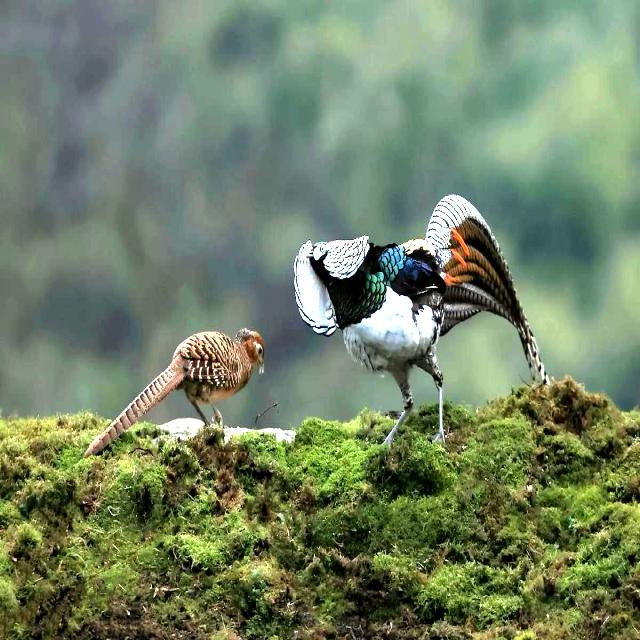Chrysolophus amherstiae: (426, 195, 549, 383)
